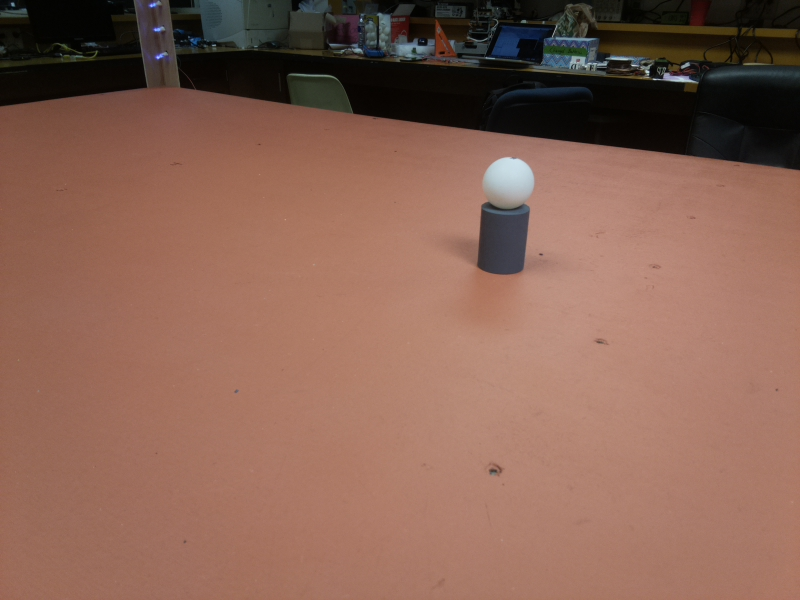corner: (133, 1, 177, 90)
obstacle: (476, 157, 533, 276)
